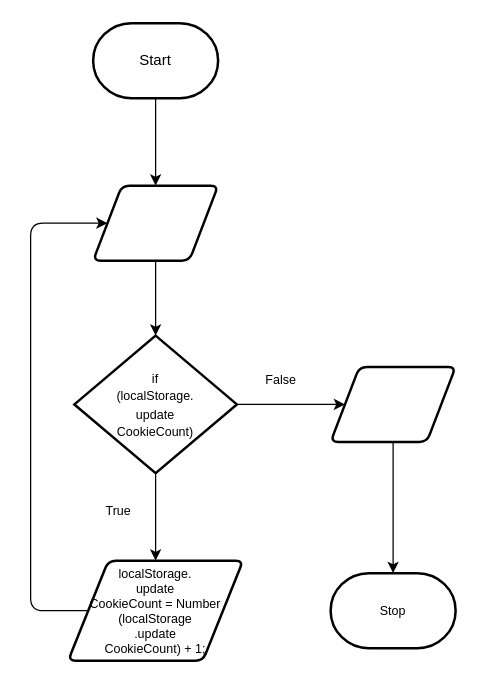
Image size: 479x683. Some labels were removed from this diagram. Each missing label, with the centre of its shape:
"Show answer" belongs at pixel 392 403.
"User clicks cookie" belongs at pixel 155 222.
